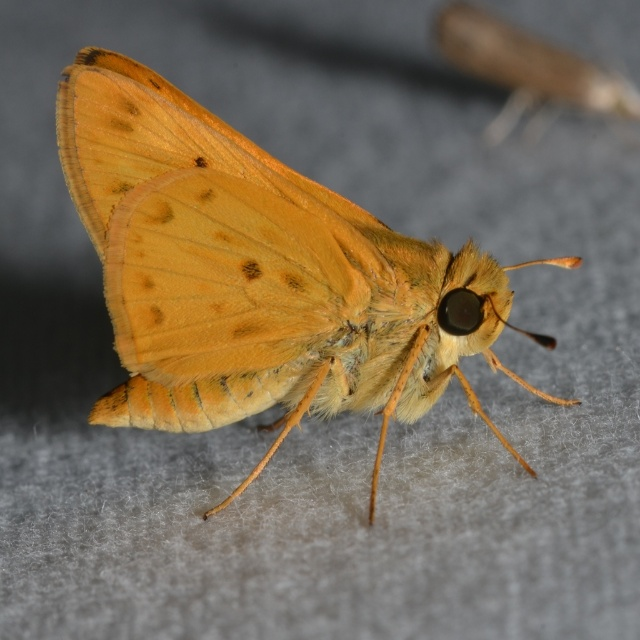Butterfly: (56, 46, 586, 522)
